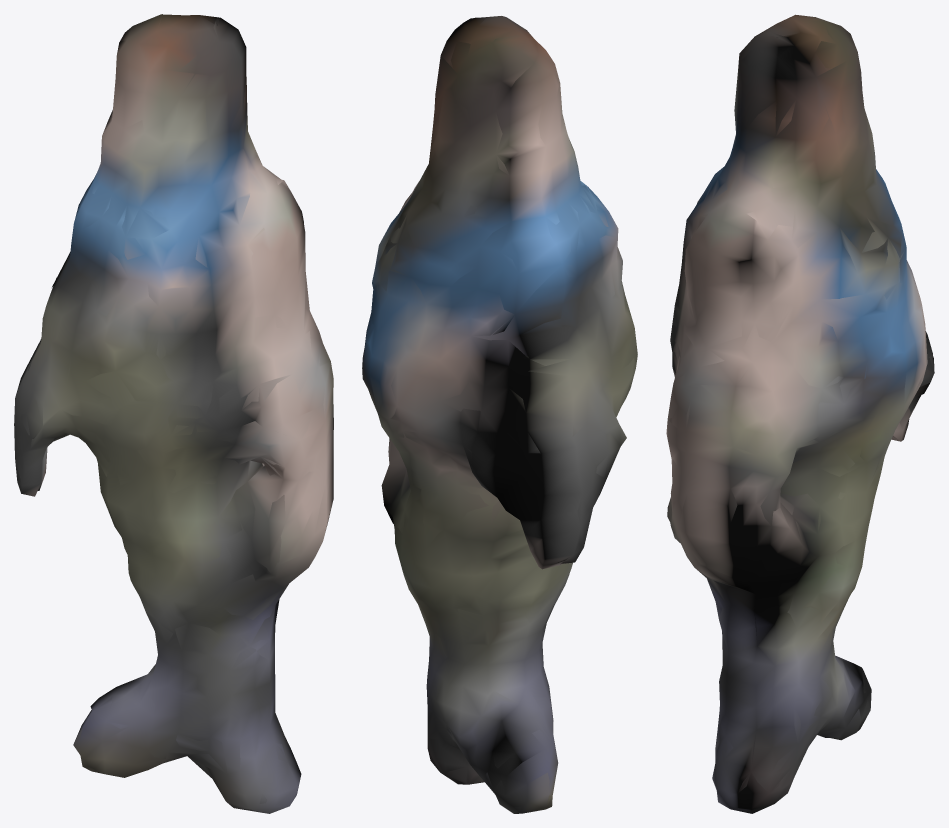
Rendered from tanya.glb.
The picture shows the model from 3 angles, left to right: view 1: azimuth 30°, elevation 25°; view 2: azimuth 150°, elevation 25°; view 3: azimuth 270°, elevation 25°; orthographic projection. The views are drawn at different scales.
Parts seen in each view (by area): view 1: tanya; view 2: tanya; view 3: tanya.
Boxes of the visible parts, x1=… form: tanya: x1=14, y1=14, x2=333, y2=813; tanya: x1=362, y1=16, x2=637, y2=813; tanya: x1=666, y1=14, x2=934, y2=813.
Size of the model in its own units: 0.7748 by 2.23 by 0.7122.
